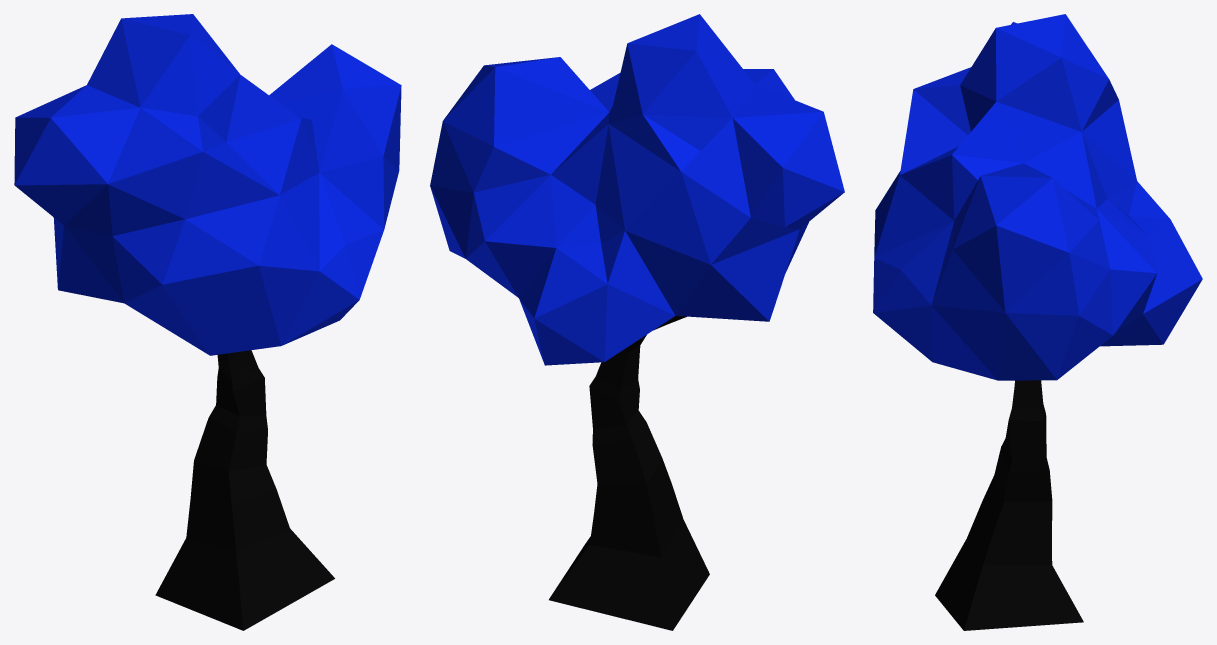
File: Tree1.fbx
3 views of the same model, side by side, from view 1: azimuth 30°, elevation 25°; view 2: azimuth 150°, elevation 25°; view 3: azimuth 270°, elevation 25° (orthographic). The views are drawn at different scales.
Visible parts, largest first — view 1: Tree 1; view 2: Tree 1; view 3: Tree 1.
Boxes of the visible parts, box(x1,y1,x2,y2) form: Tree 1: box(14, 14, 401, 630); Tree 1: box(430, 14, 844, 630); Tree 1: box(873, 14, 1202, 630).
Size of the model in its own units: 5.65 by 8.26 by 4.4.
